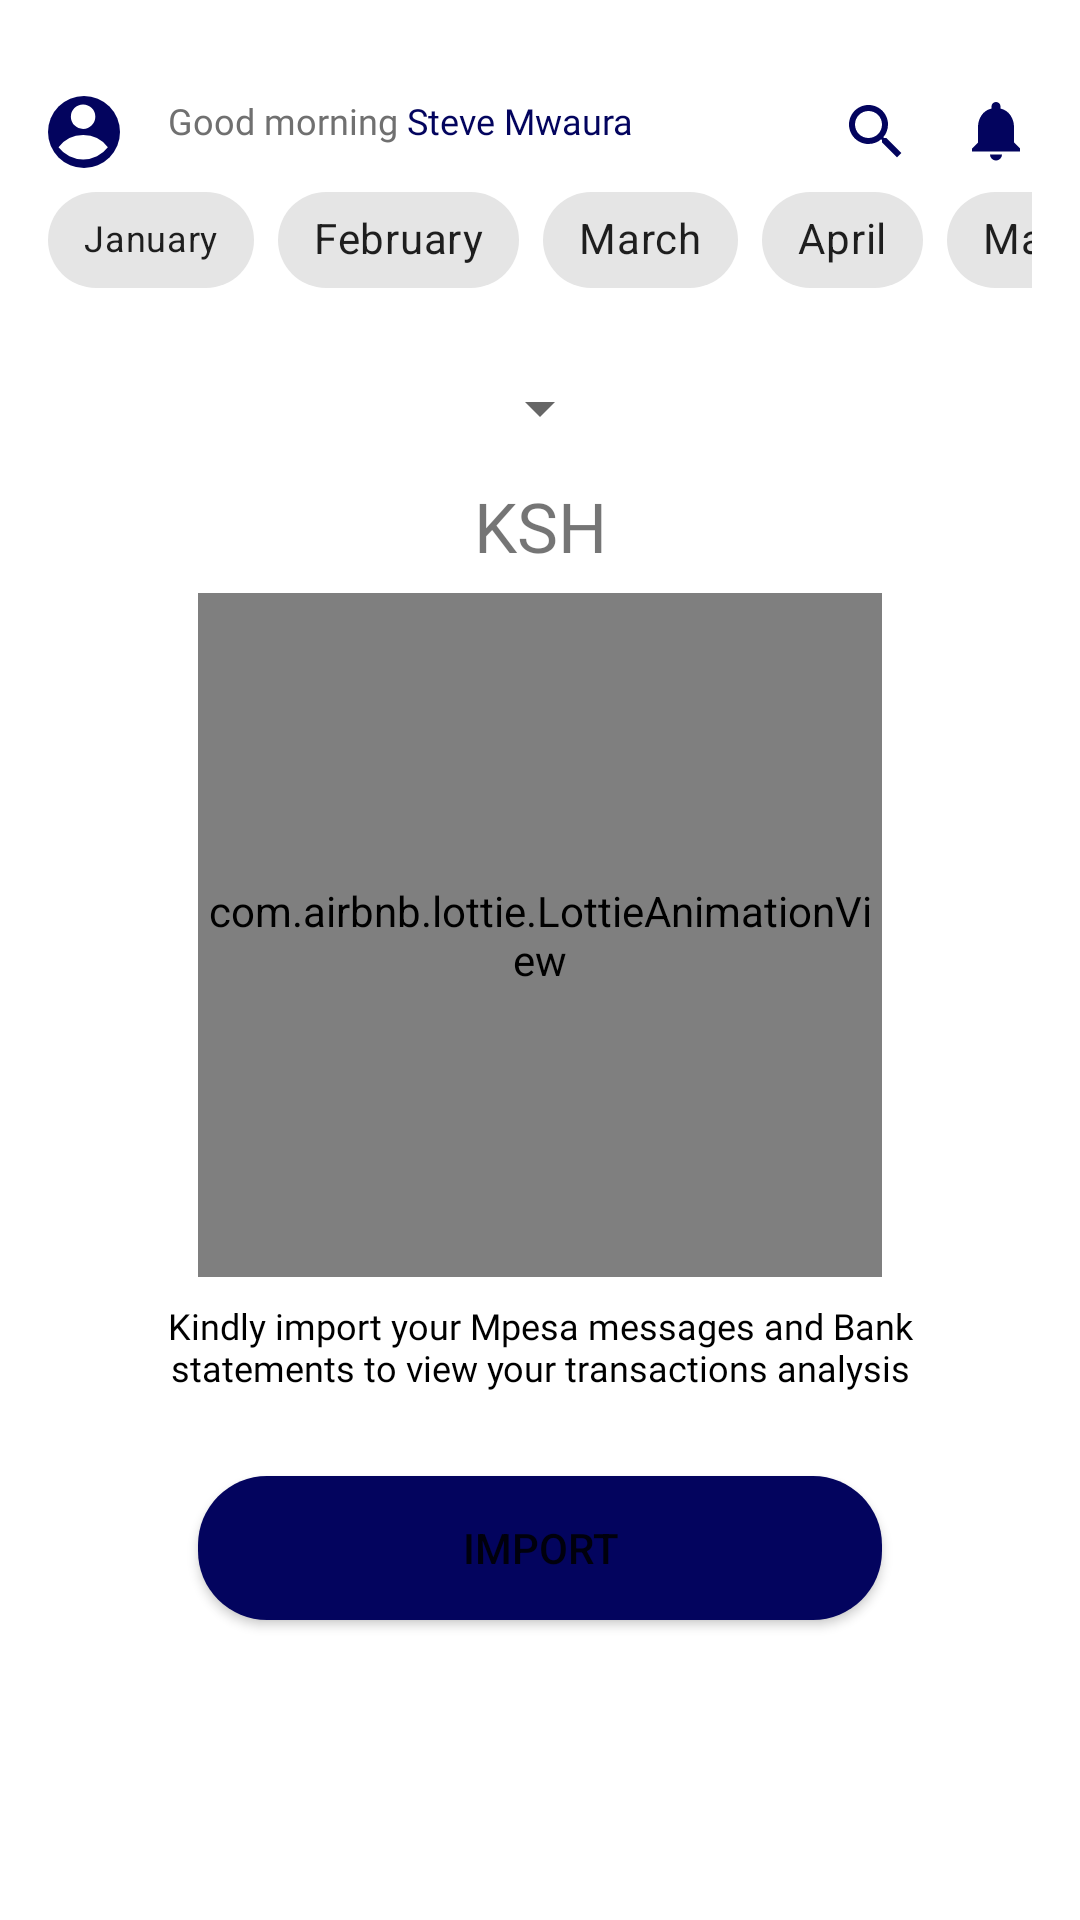

Point at icon controls on the screen. Image size 1080 x 1920, points as point (x, y).
search: point (875, 131)
social notifications: point (996, 131)
